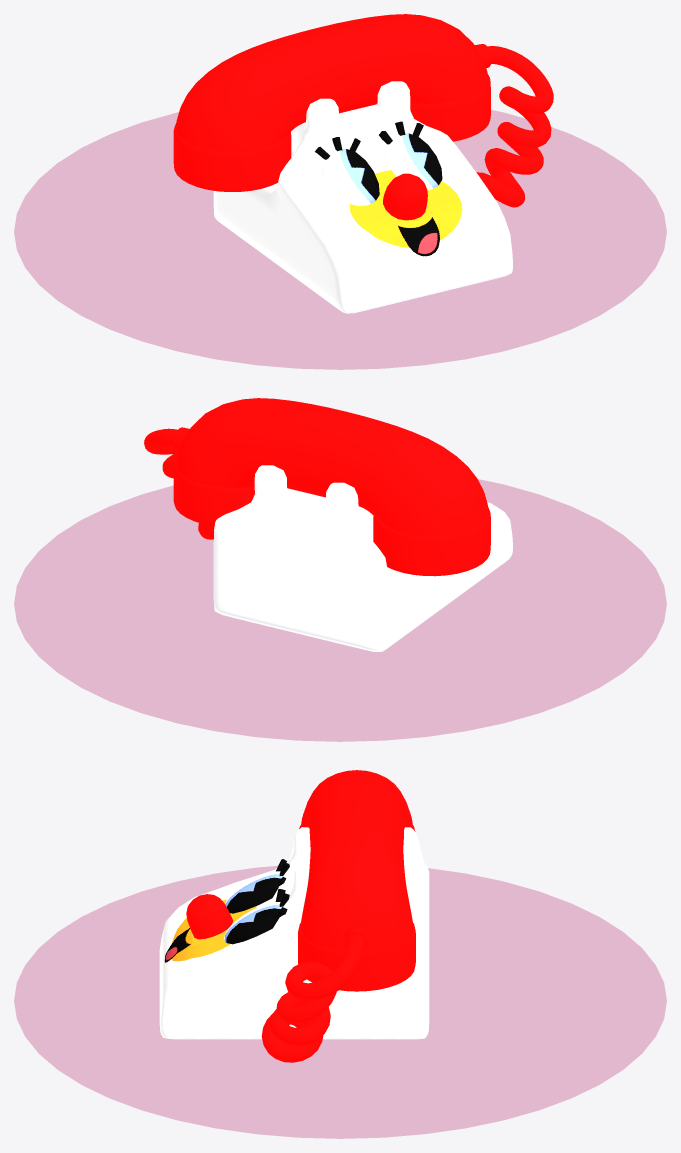
The picture shows the model from 3 angles, top to bottom: view 1: azimuth 30°, elevation 25°; view 2: azimuth 150°, elevation 25°; view 3: azimuth 270°, elevation 25°; orthographic projection.
Parts seen in each view (by area): view 1: ground_msh, phone_msh, body_msh, eye_msh1, eye_msh2, nose_msh; view 2: ground_msh, phone_msh, body_msh; view 3: ground_msh, phone_msh, body_msh, nose_msh, eye_msh2, eye_msh1.
Boxes of the visible parts, left/top/right/bottom form: ground_msh: left=14, top=110, right=666, bottom=369; phone_msh: left=173, top=14, right=553, bottom=207; body_msh: left=213, top=81, right=512, bottom=313; eye_msh1: left=322, top=149, right=379, bottom=205; eye_msh2: left=385, top=133, right=442, bottom=190; nose_msh: left=383, top=173, right=427, bottom=220; ground_msh: left=14, top=479, right=666, bottom=741; phone_msh: left=144, top=398, right=490, bottom=576; body_msh: left=213, top=465, right=512, bottom=651; ground_msh: left=14, top=866, right=666, bottom=1138; phone_msh: left=261, top=770, right=415, bottom=1062; body_msh: left=159, top=827, right=429, bottom=1039; nose_msh: left=186, top=894, right=233, bottom=939; eye_msh2: left=223, top=902, right=282, bottom=944; eye_msh1: left=225, top=871, right=282, bottom=913.
Bounding box in the file's own units: 0.3966 × 0.1309 × 0.3966.
Materials: 5 (1 with a texture image).
